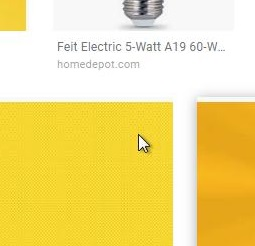cursor: (136, 132, 151, 154)
